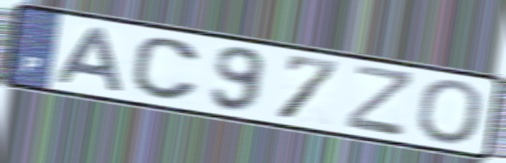7: (278, 53, 342, 123)
9: (209, 45, 269, 114)
A: (54, 25, 127, 95)
C: (128, 35, 203, 104)
O: (412, 78, 486, 147)
Z: (342, 62, 417, 140)
